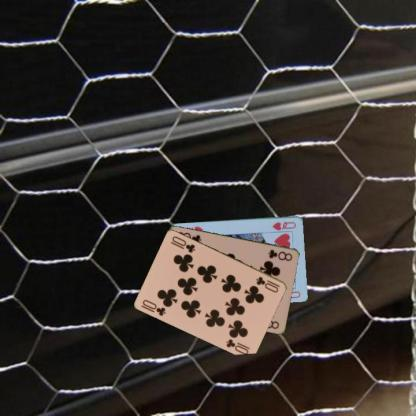10c: (140, 297, 168, 317), (254, 274, 281, 293)
8c: (265, 247, 294, 262)
Qh: (270, 219, 297, 231)
